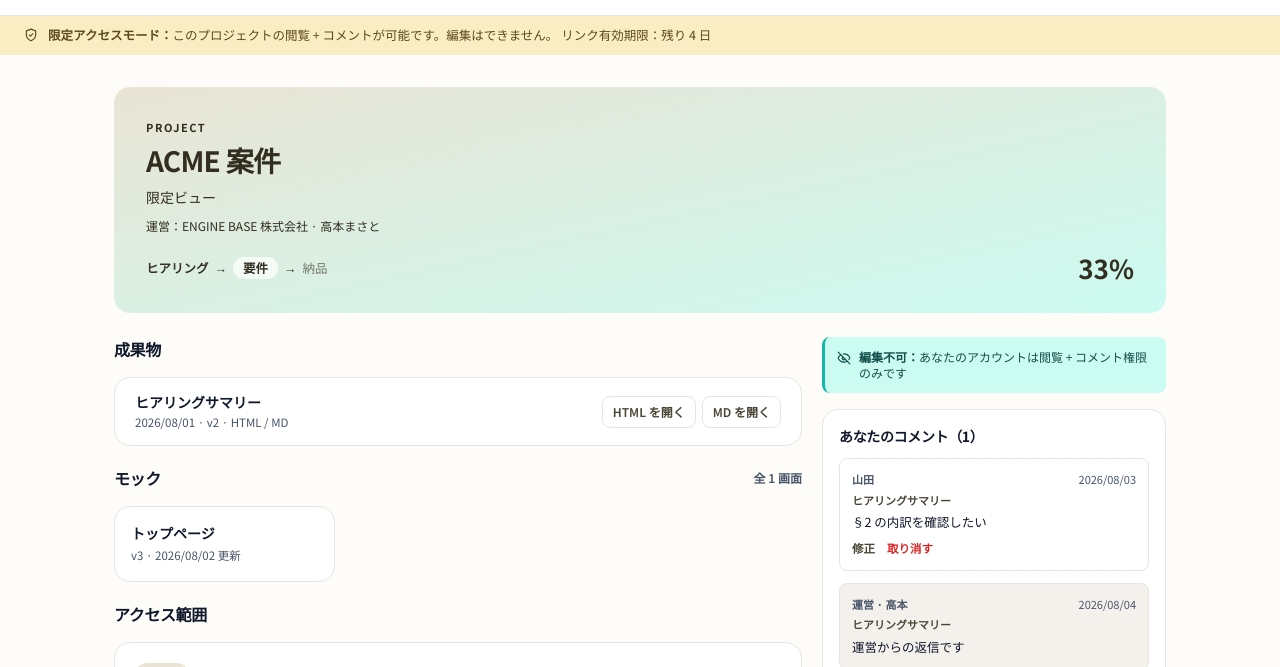
it: S-L03 GAP-267 自分のコメントの修正・取り消し (通し J23-03) › edits the own comment inline and calls the API with the new text
Click the button with aria-label "コメントを修正:" at [864, 549], box [852, 540, 875, 558]
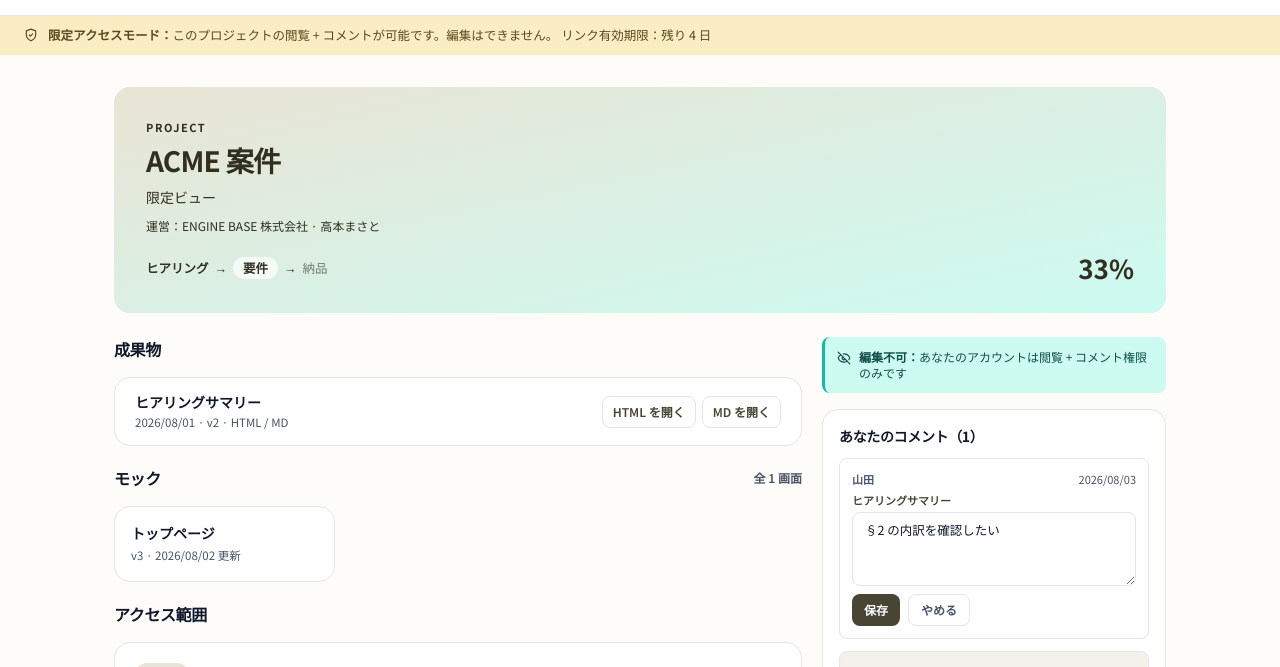
Replace the text in the text box named "コメントを修正" with "直した本文" at [994, 549], box [852, 512, 1136, 586]
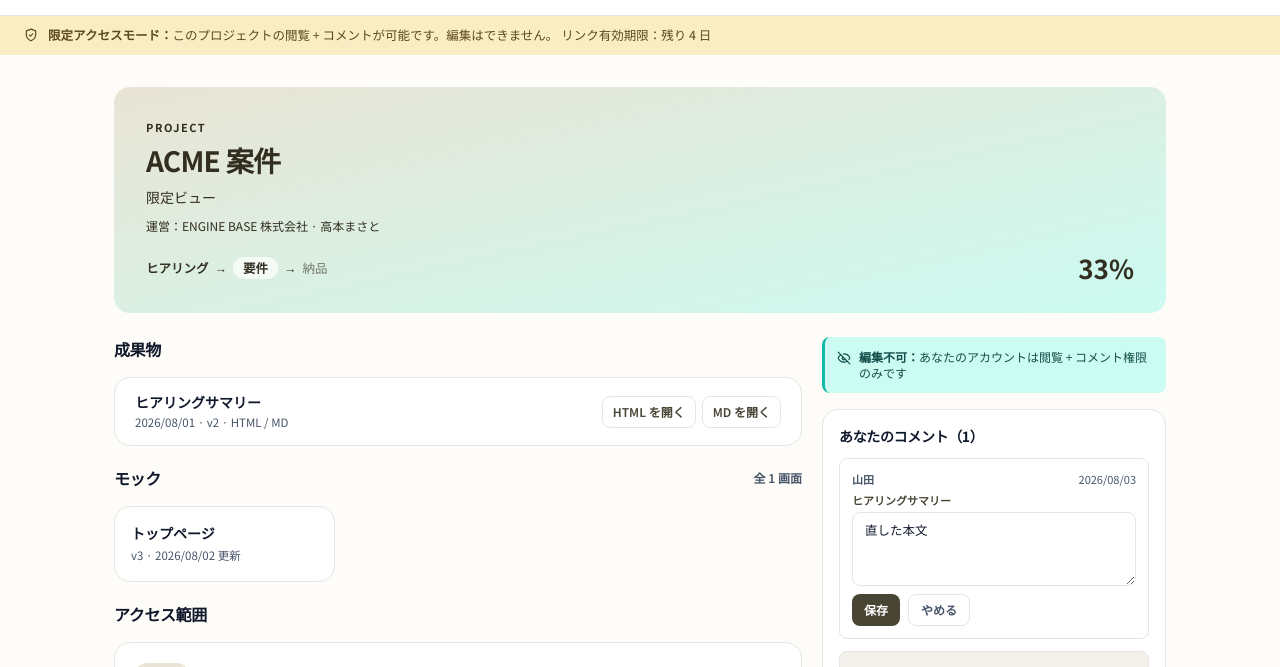
Click the button "保存" at [876, 610], box [852, 594, 900, 626]
(page scrolled)
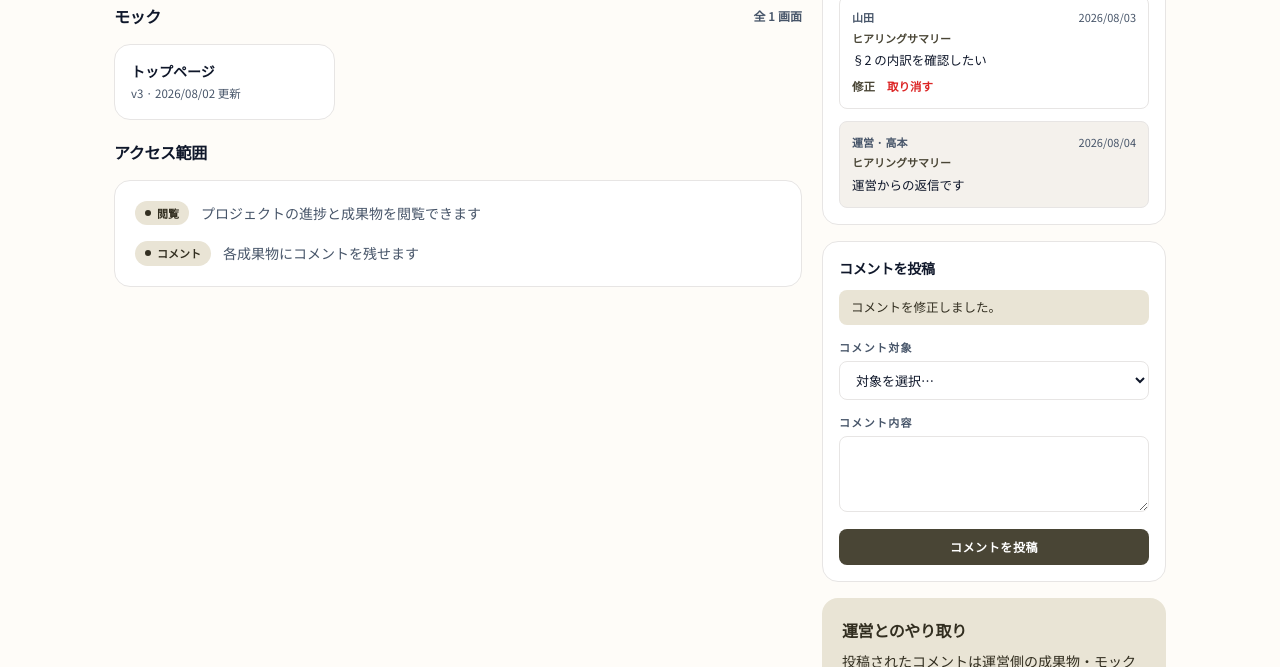
expect the text "コメントを修正しました。" is shown: met, box [839, 290, 1149, 325]
